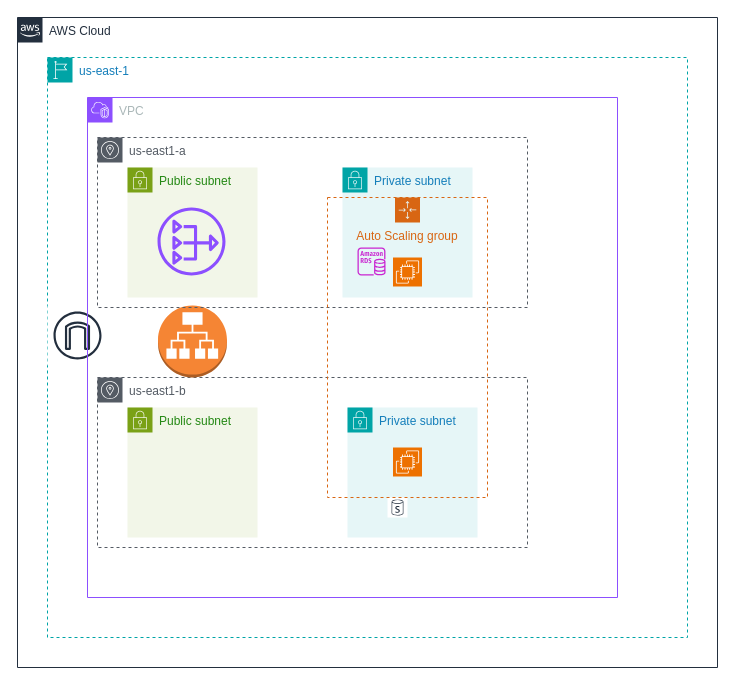
This 735x685 diagram has some shape labels left out. Each missing label, with the centre of its shape:
"DB instance standby" belongs at pixel 397 507.
"Internet gateway" belongs at pixel 77 335.
